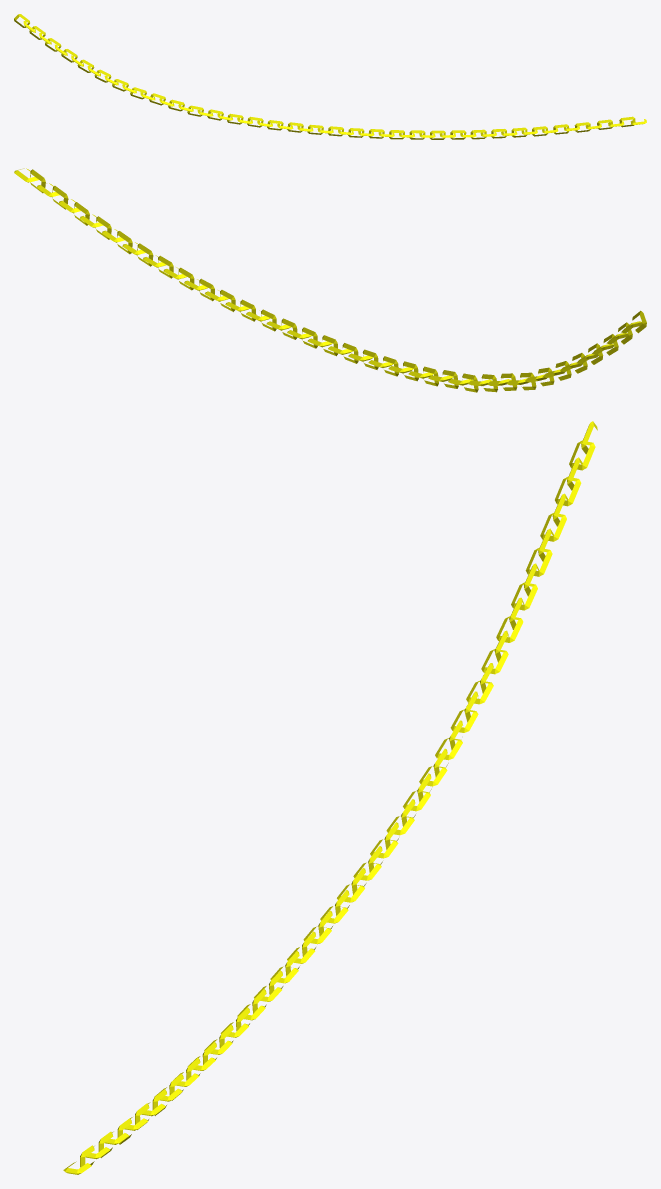
The model's file is flame_chain_001.glb.
3 views of the same model, one above another, from view 1: azimuth 30°, elevation 25°; view 2: azimuth 150°, elevation 25°; view 3: azimuth 270°, elevation 25° (orthographic). The views are drawn at different scales.
Visible parts, largest first — view 1: flame_chain_001; view 2: flame_chain_001; view 3: flame_chain_001.
Boxes of the visible parts, box(x1,y1,x2,y2) form: flame_chain_001: box(14, 14, 646, 139); flame_chain_001: box(14, 168, 646, 392); flame_chain_001: box(63, 421, 597, 1174).
Bounding box in the file's own units: 41.04 × 11.26 × 18.91.
1 material, 1 textured.
